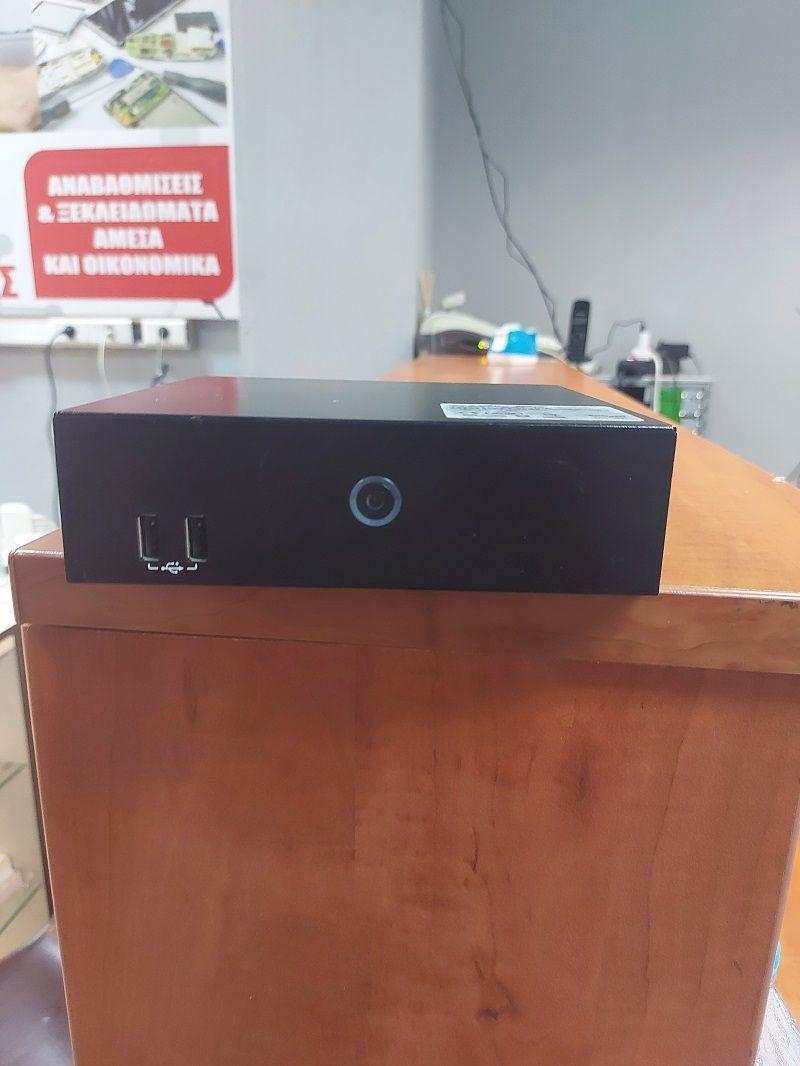computer_tower: (53, 373, 679, 593)
